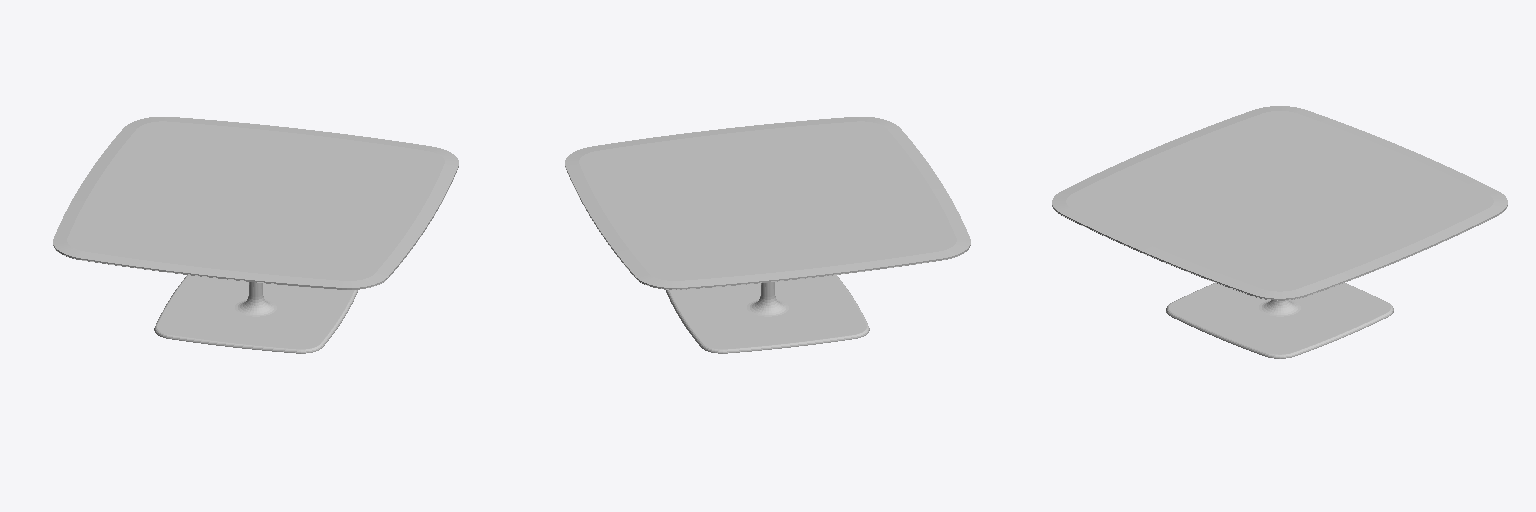
File: scene1_table1.obj
3 views of the same model, side by side, from view 1: azimuth 30°, elevation 25°; view 2: azimuth 150°, elevation 25°; view 3: azimuth 270°, elevation 25° (orthographic).
Visible parts, largest first — view 1: top, legs; view 2: top, legs; view 3: top, legs.
Boxes of the visible parts, x1,y1,x2,y2 form: top: [67, 121, 444, 280]; legs: [53, 117, 458, 353]; top: [579, 121, 956, 280]; legs: [565, 117, 970, 353]; top: [1066, 111, 1493, 291]; legs: [1052, 106, 1507, 358].
Size of the model in its own units: 108 by 28.6 by 108.